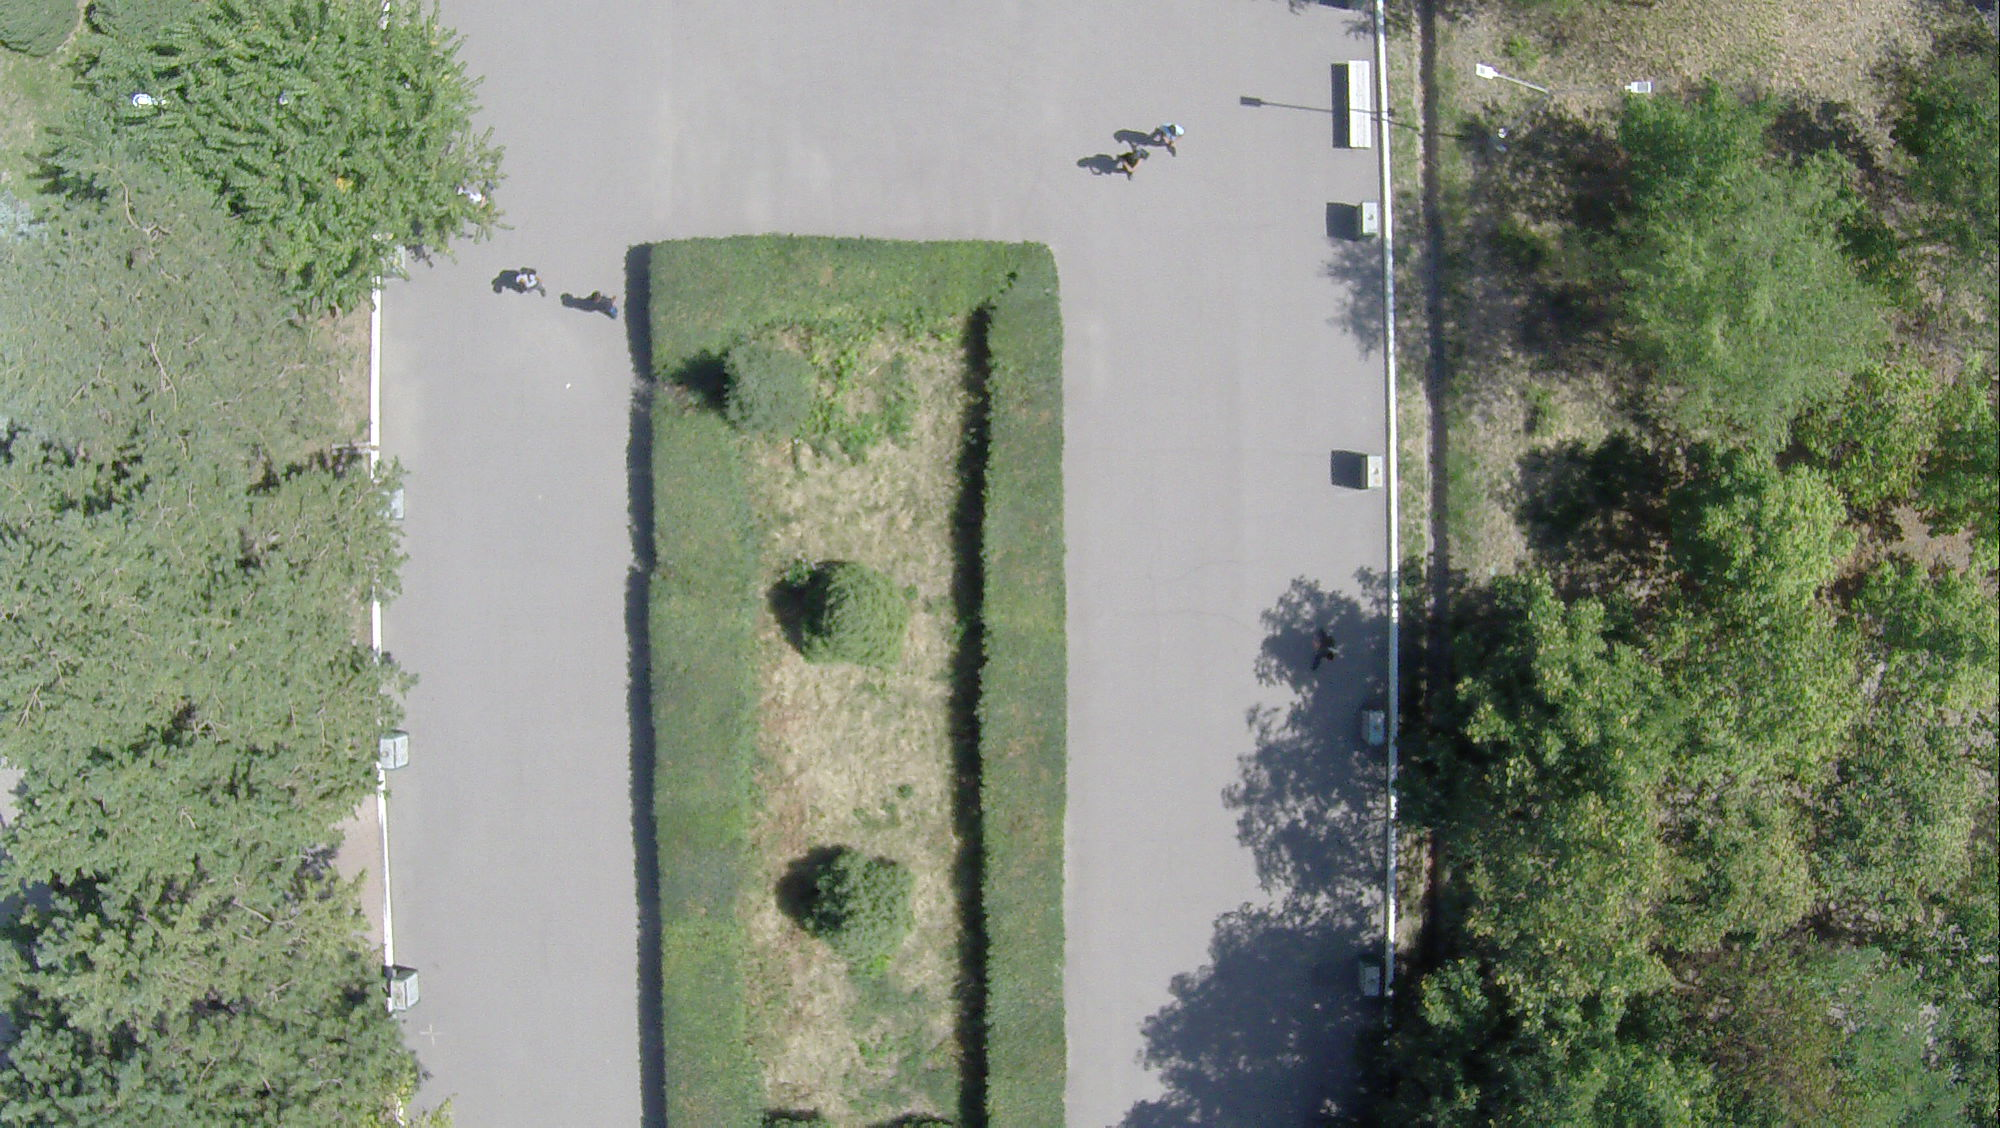person: (1156, 121, 1184, 158), (1121, 150, 1149, 184), (515, 267, 546, 297), (589, 288, 619, 319)
